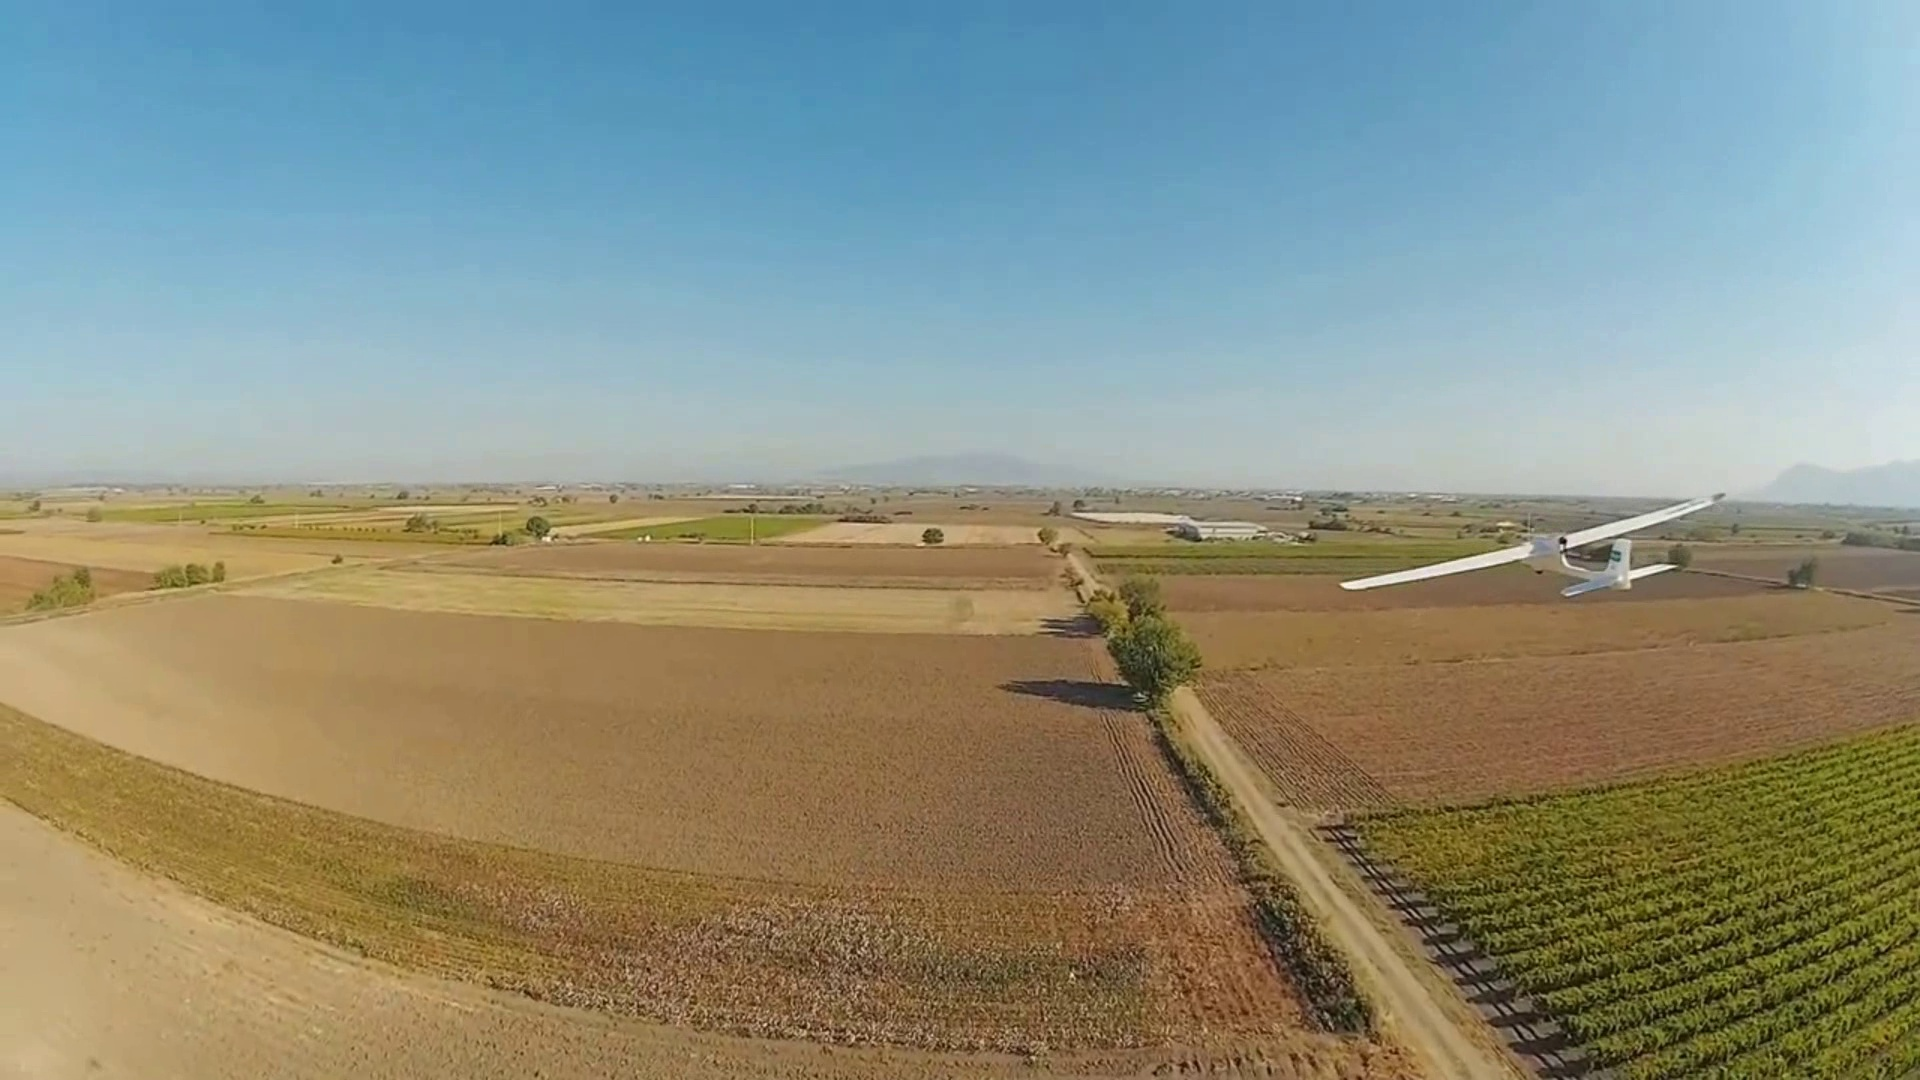airplane: (1340, 492, 1727, 601)
